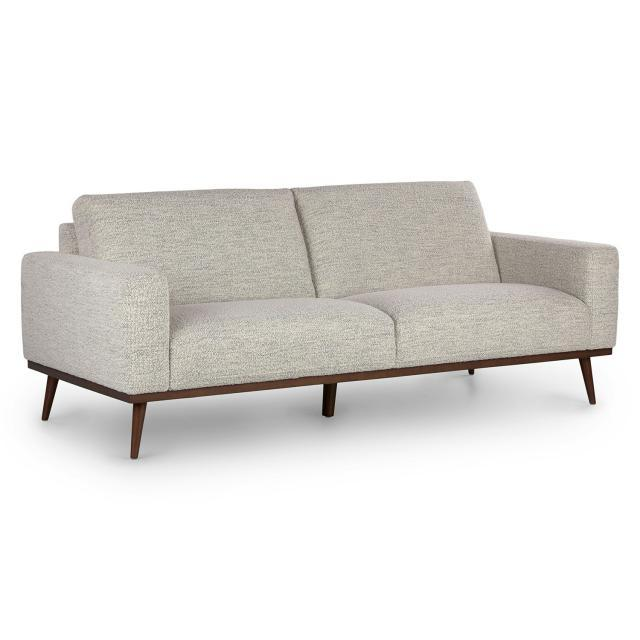sofa: (19, 178, 620, 460)
